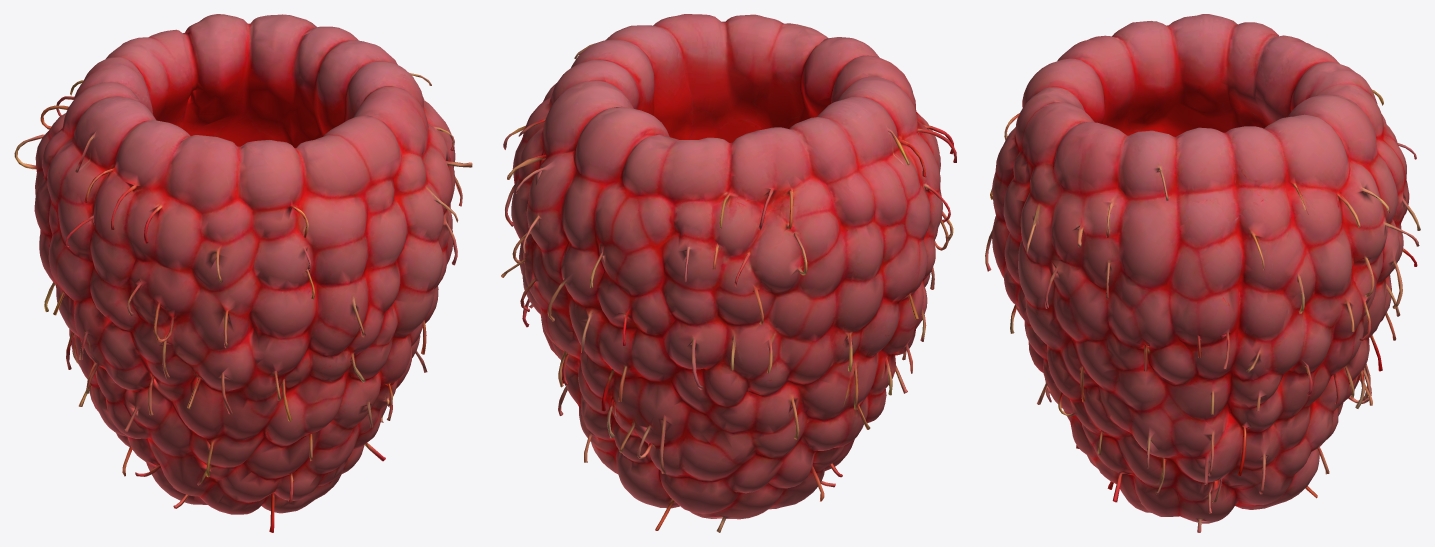
The model's file is bk-berry-raspberry.glb.
3 renders of one model, left to right at view 1: azimuth 30°, elevation 25°; view 2: azimuth 150°, elevation 25°; view 3: azimuth 270°, elevation 25°, orthographic.
Visible parts, largest first — view 1: node_0; view 2: node_0; view 3: node_0.
Boxes of the visible parts, box(x1,y1,x2,y2) form: node_0: box(14, 14, 472, 532); node_0: box(501, 14, 956, 532); node_0: box(985, 14, 1420, 532).
Bounding box in the file's own units: 0.9696 × 1.01 × 0.9391.
1 material, 1 textured.
